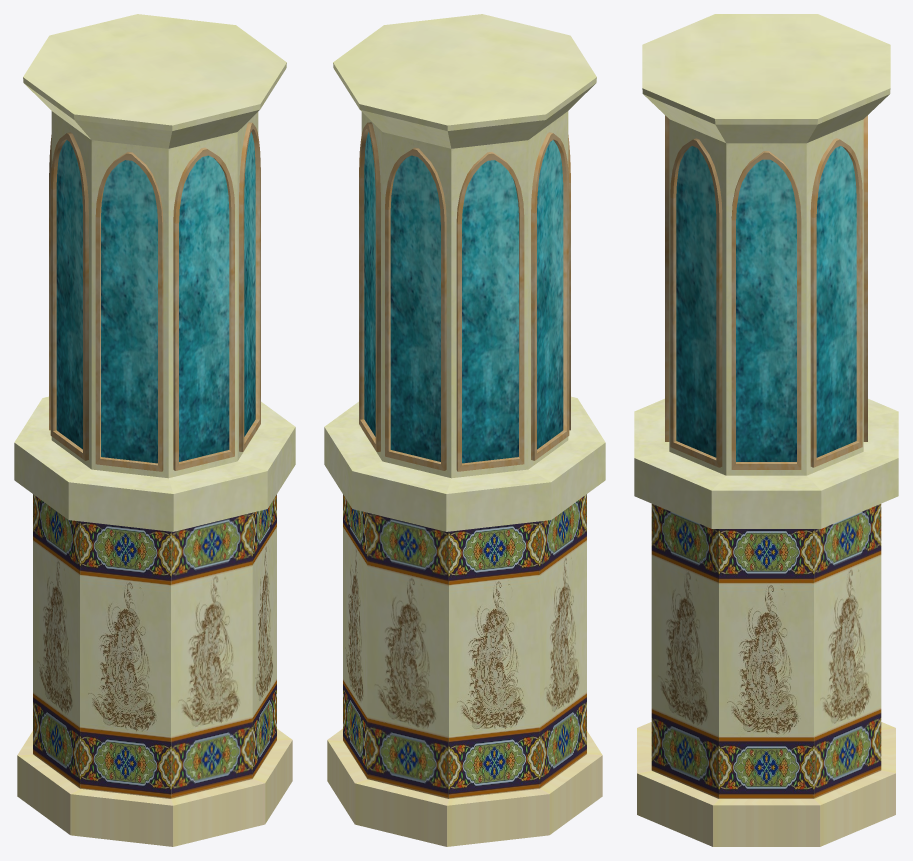
The model's file is menar.glb.
3 renders of one model, left to right at view 1: azimuth 30°, elevation 25°; view 2: azimuth 150°, elevation 25°; view 3: azimuth 270°, elevation 25°, orthographic.
Visible parts, largest first — view 1: monar 01.001; view 2: monar 01.001; view 3: monar 01.001.
Boxes of the visible parts, x1=… form: monar 01.001: x1=14, y1=14, x2=295, y2=846; monar 01.001: x1=324, y1=14, x2=605, y2=846; monar 01.001: x1=634, y1=14, x2=898, y2=846.
Bounding box in the file's own units: 4.59 × 13.9 × 4.59.
Materials: 1 (1 with a texture image).
